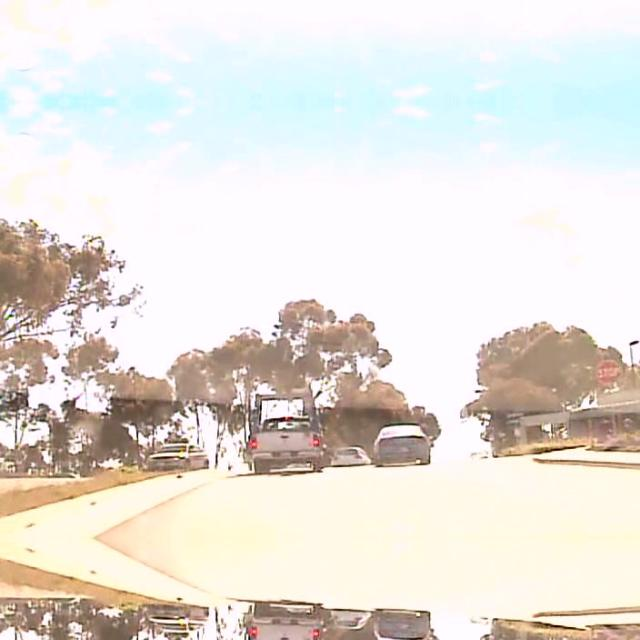stop: (595, 358, 621, 382)
